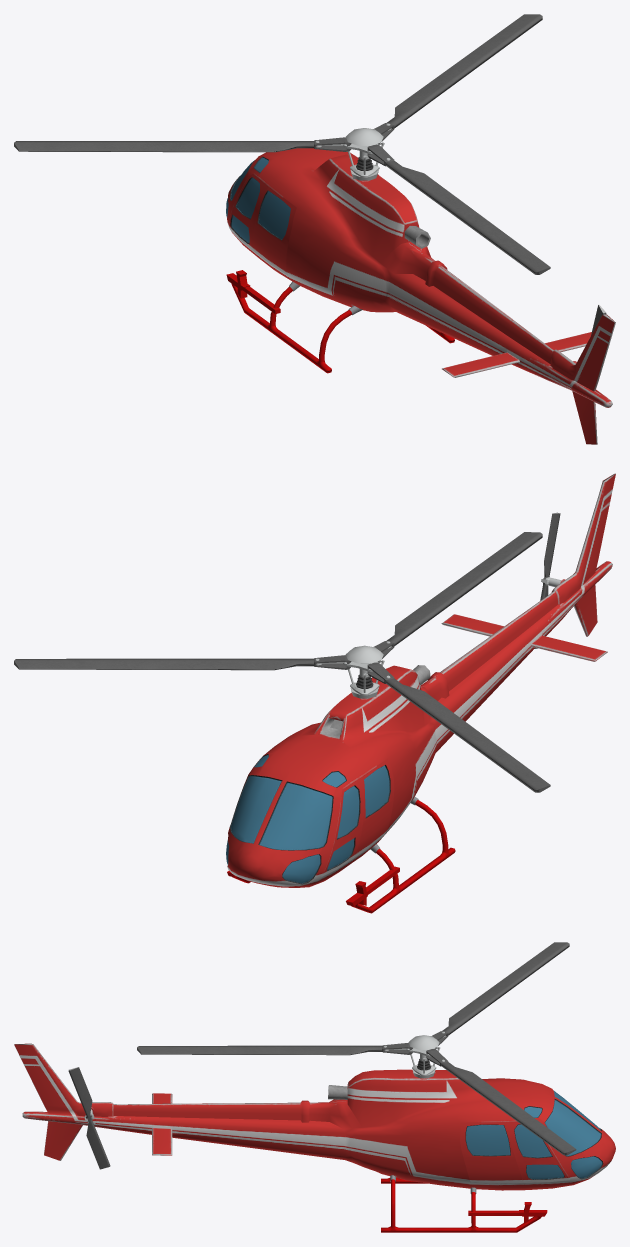
3 renders of one model, top to bottom at view 1: azimuth 30°, elevation 25°; view 2: azimuth 150°, elevation 25°; view 3: azimuth 270°, elevation 25°, orthographic. The views are drawn at different scales.
Parts seen in each view (by area): view 1: cabine_poste_reservoir_soute, rotor_pales, patins, moyeu_arbre; view 2: cabine_poste_reservoir_soute, rotor_pales, patins, moyeu_arbre, rotor_anticouple; view 3: cabine_poste_reservoir_soute, rotor_pales, patins, rotor_anticouple, moyeu_arbre.
Boxes of the visible parts, box(x1,y1,x2,y2) form: cabine_poste_reservoir_soute: box(226, 148, 615, 444); rotor_pales: box(14, 14, 550, 274); patins: box(226, 270, 454, 373); moyeu_arbre: box(346, 128, 383, 180); cabine_poste_reservoir_soute: box(226, 473, 615, 887); rotor_pales: box(14, 532, 550, 792); patins: box(227, 797, 455, 913); moyeu_arbre: box(345, 645, 383, 698); rotor_anticouple: box(534, 512, 565, 648); cabine_poste_reservoir_soute: box(14, 1043, 615, 1190); rotor_pales: box(137, 942, 576, 1155); patins: box(381, 1175, 547, 1232); rotor_anticouple: box(68, 1067, 110, 1169); moyeu_arbre: box(408, 1035, 439, 1078).
Size of the model in its own units: 0.0913 by 0.0345 by 0.11.
Materials: 1 (1 with a texture image).
